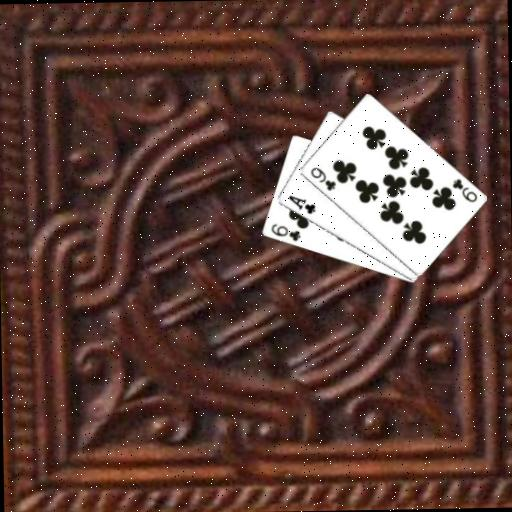6C: (268, 220, 302, 243)
9C: (307, 164, 337, 193), (449, 176, 478, 205)
AC: (285, 192, 317, 217)
